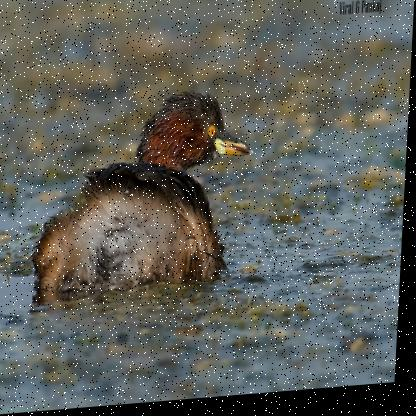Burung: (34, 91, 259, 296)
